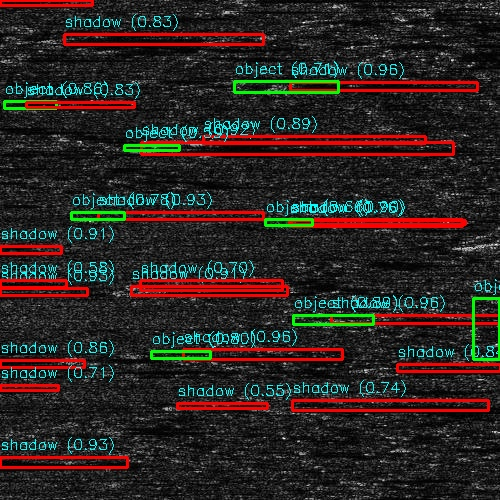rock: (104, 270, 197, 313), (88, 270, 203, 297), (185, 70, 278, 87), (87, 363, 160, 376), (310, 314, 415, 323), (173, 346, 204, 365), (282, 217, 323, 228), (163, 135, 226, 142), (347, 366, 420, 371), (347, 40, 388, 45), (141, 145, 172, 150), (0, 52, 14, 61), (92, 215, 123, 218), (216, 7, 237, 10)
shadow: (151, 270, 373, 313), (146, 270, 294, 297), (232, 70, 390, 87), (195, 135, 465, 142), (303, 217, 461, 228), (124, 363, 232, 376), (363, 314, 500, 323), (0, 359, 121, 368), (0, 52, 106, 61), (0, 124, 104, 131), (189, 346, 226, 365), (384, 366, 500, 371), (0, 283, 94, 288), (108, 215, 253, 218), (368, 40, 453, 45), (227, 7, 306, 10), (0, 457, 38, 462), (157, 145, 194, 150), (308, 86, 472, 87), (0, 344, 16, 353), (0, 308, 18, 313)
